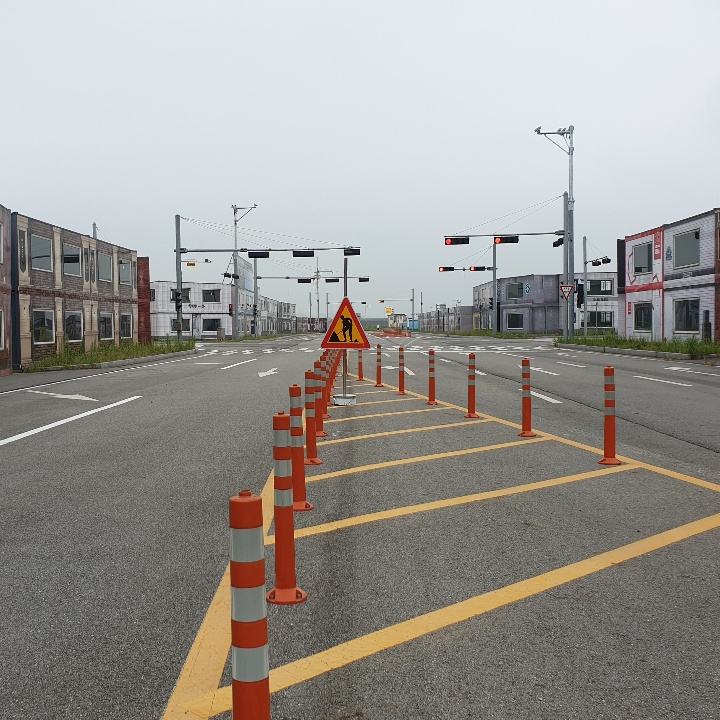const: (326, 306, 365, 347)
